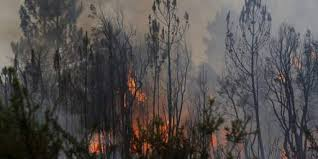fire: (123, 73, 184, 159), (85, 131, 113, 156)
smoke: (188, 3, 230, 73), (260, 108, 277, 139)
